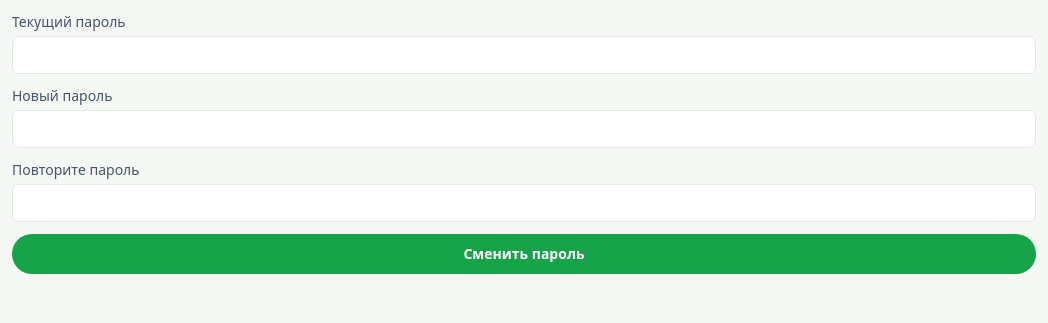
Test: ChangePasswordForm › explains the attempt limit with the wait
The width and height of the screenshot is (1048, 323).
Type "initial password 1" into the password field named "current" at (524, 55), box [12,36,1036,74]
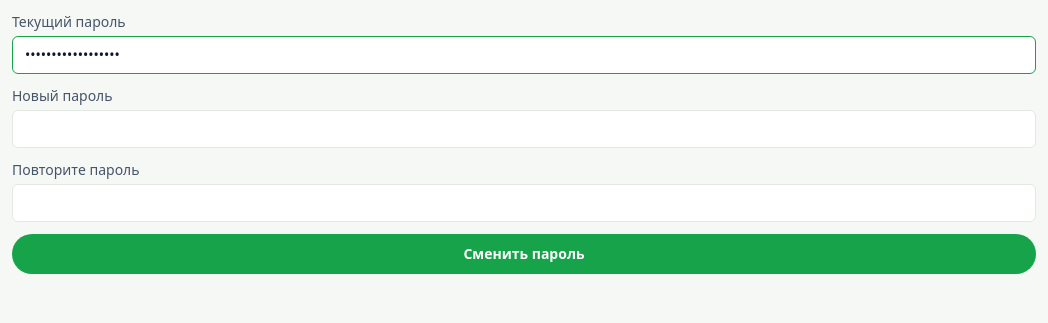
Type "brand new passphrase" into the password field named "next" at (524, 129), box [12,110,1036,148]
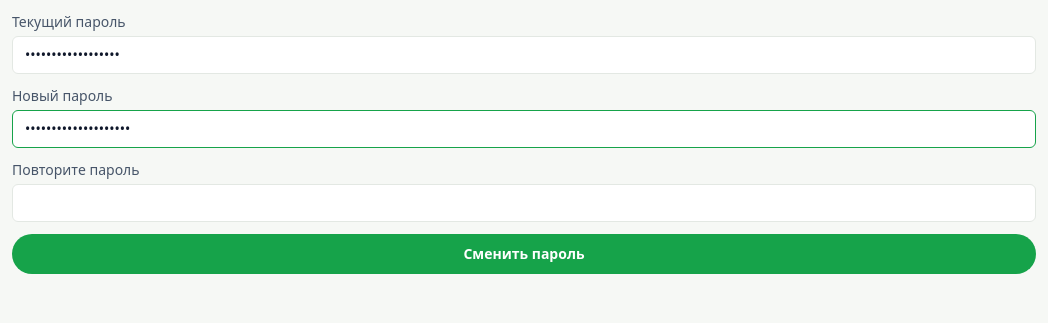
Type "brand new passphrase" into the password field named "repeat" at (524, 203), box [12,184,1036,222]
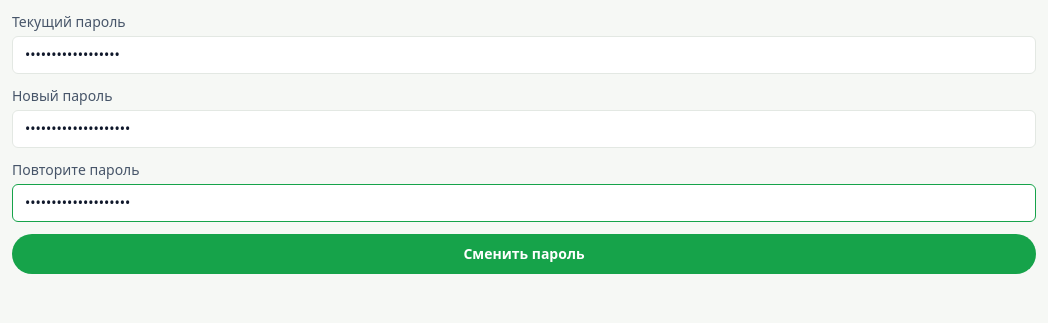
Click the button "Сменить пароль" at (524, 254), box [12,234,1036,274]
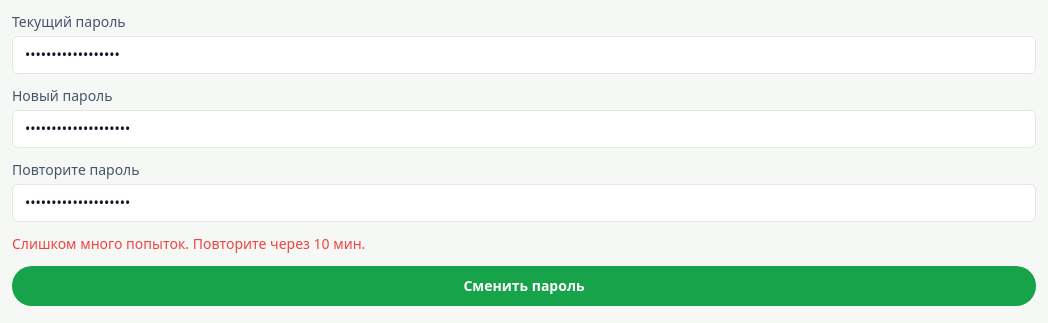
Check: the message reads "Слишком много попыток. Повторите через 10 мин.", box [12,234,365,253]
